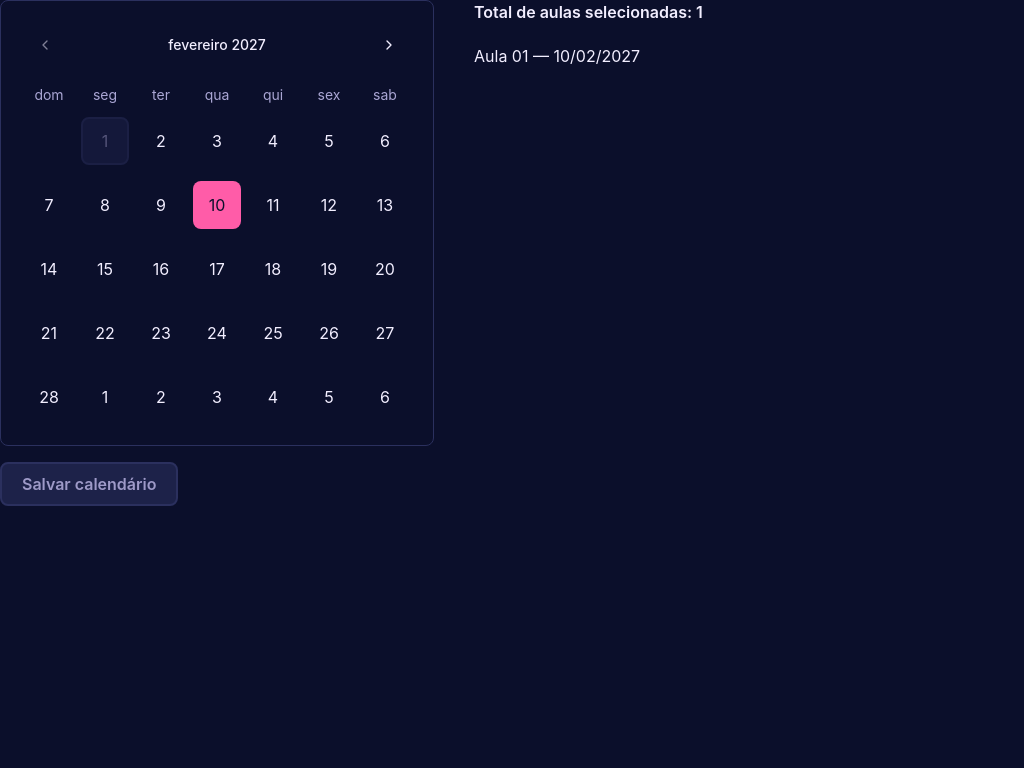
004/US4 MeetingCalendar — calendário de encontros da turma › 004/US4-6 "Deixar sem data" e "Cancelar" mantém a aula marcada
The image size is (1024, 768).
Expected: the text "Total de aulas selecionadas: 1" is shown, [474,2,703,22]
Click the button "10". click: [217, 205]
box: [193,181,241,229]
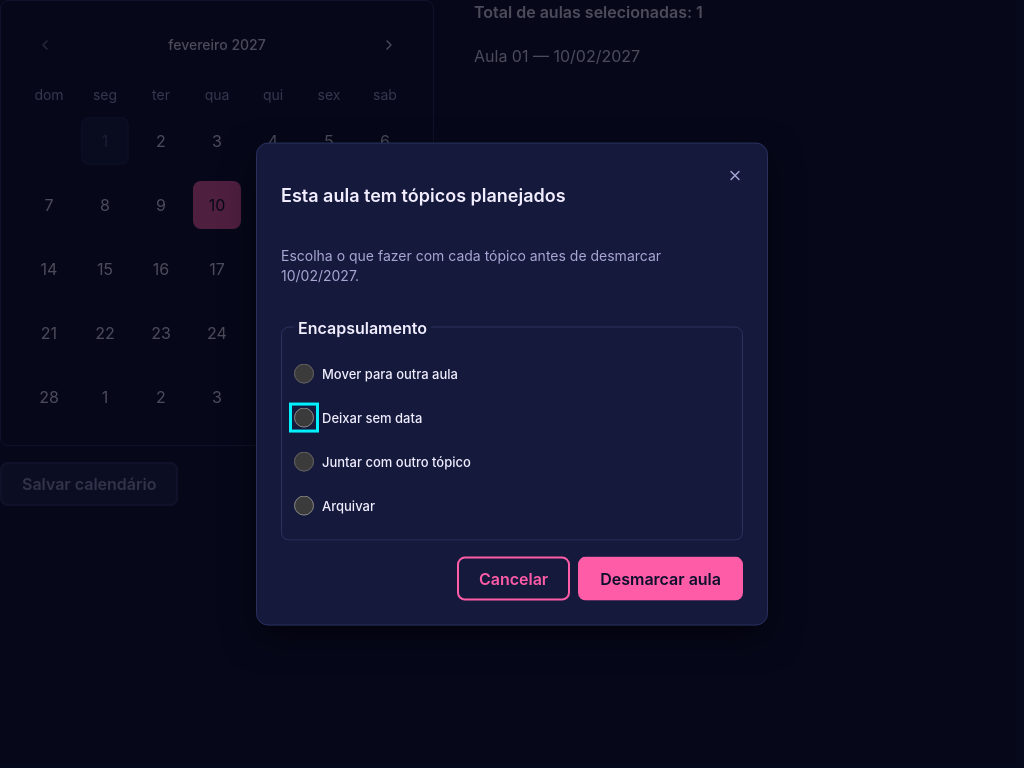
Click the button "Cancelar". click: [514, 578]
box: [457,556,570,600]
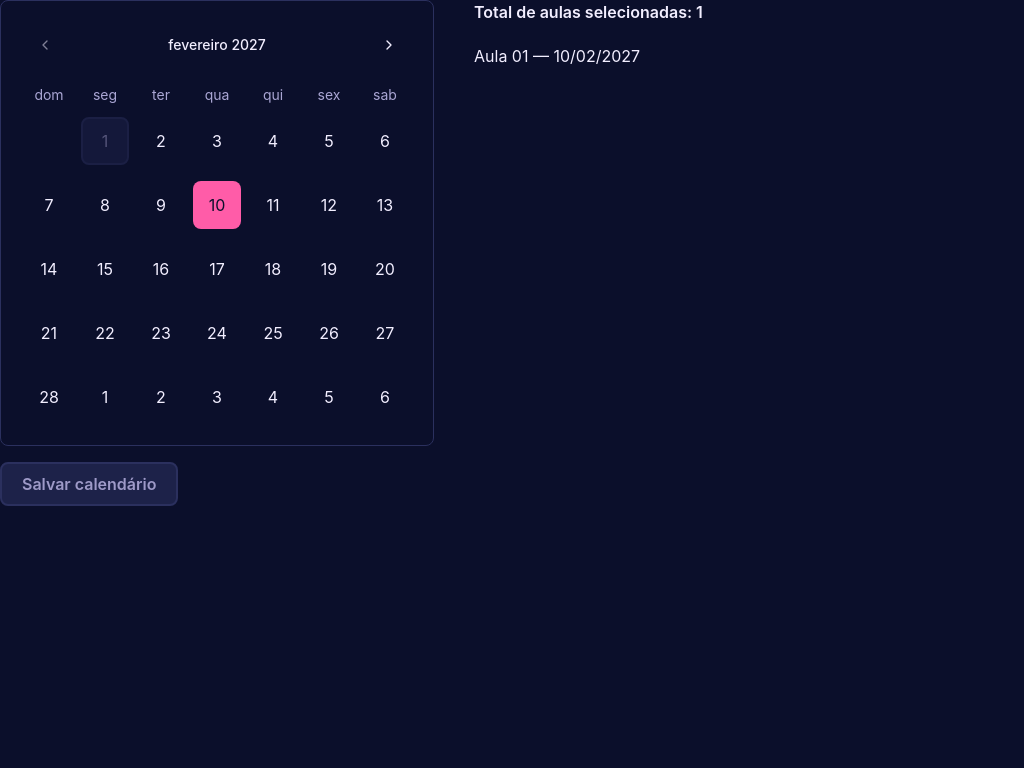
Expected: the text "Total de aulas selecionadas: 1" is shown, [474,2,703,22]
Expected: the dialog is gone
Click the button "10". click: [217, 205]
box: [193,181,241,229]
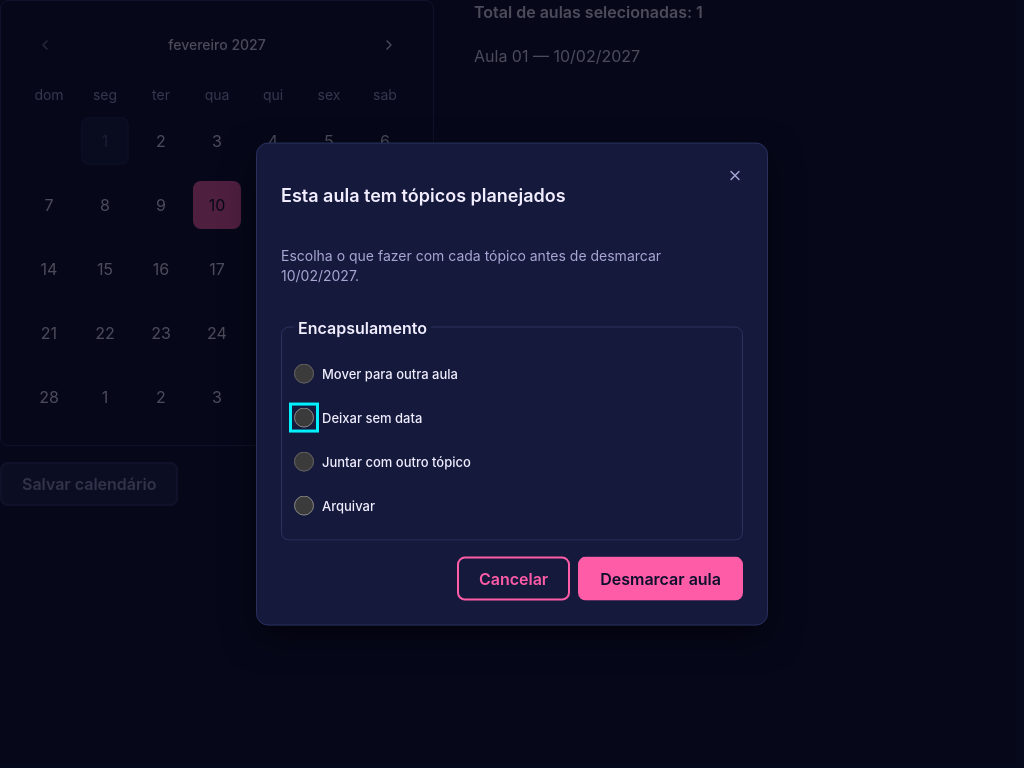
Click the radio button labelled "Deixar sem data". click: [304, 417]
box: [294,407,314,427]
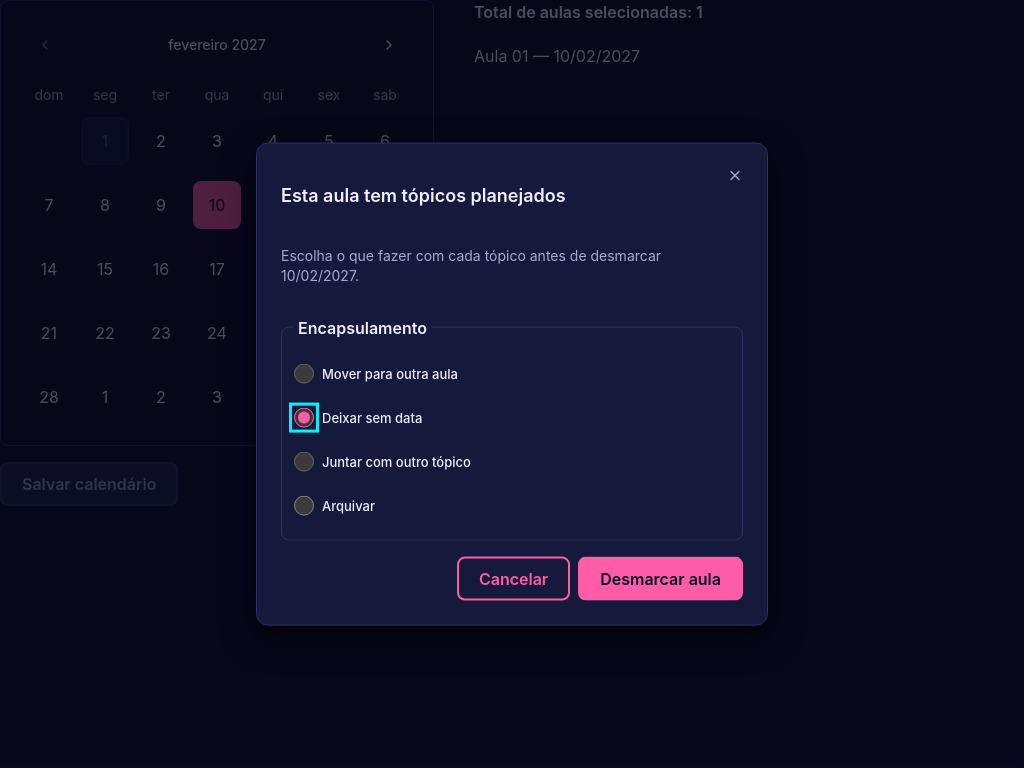
Click the button "Desmarcar aula". click: [661, 578]
box: [578,556,743,600]
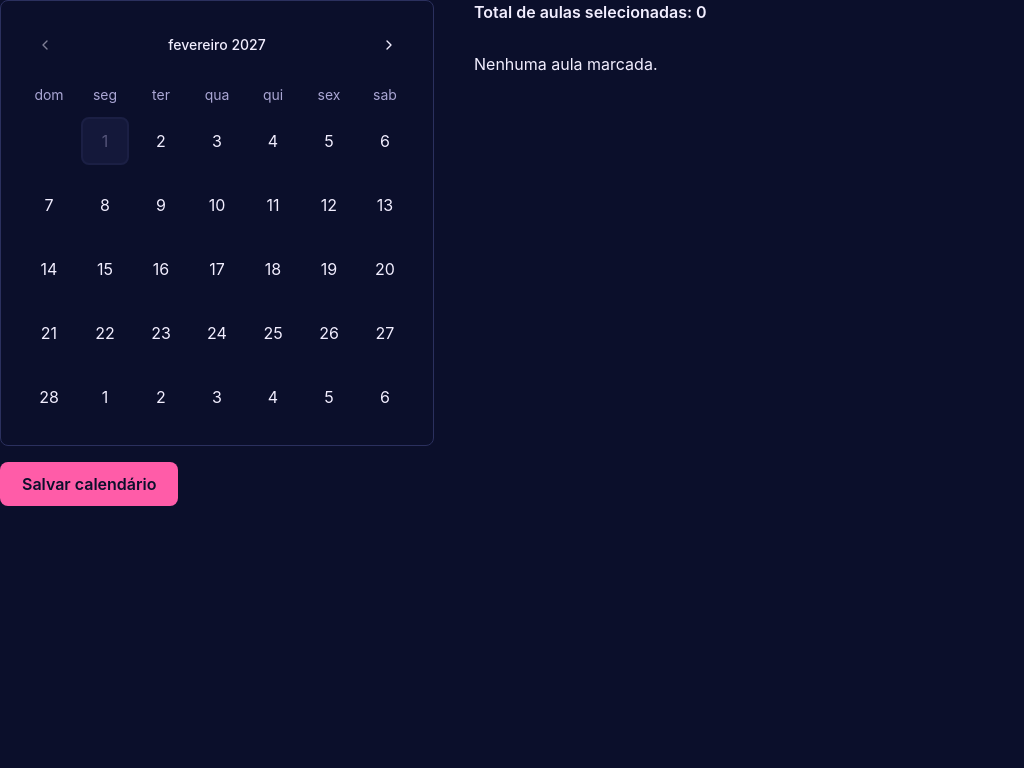
Click the button "Salvar calendário". click: [89, 484]
box: [0,462,178,506]
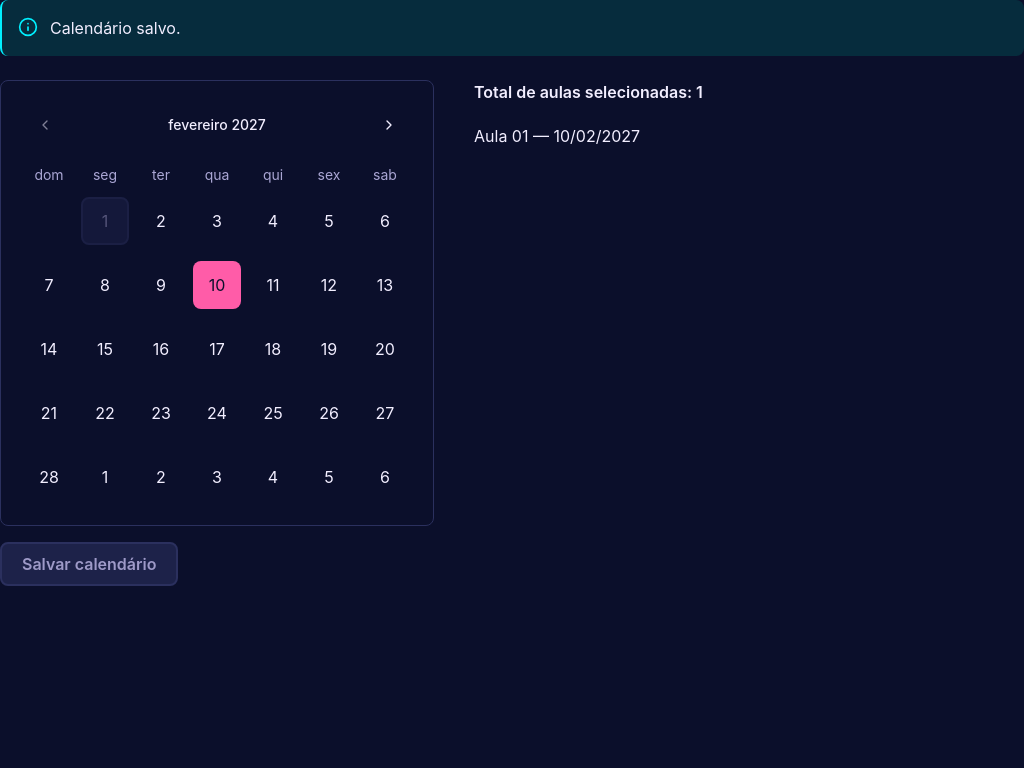
Expected: the text "Calendário salvo." is shown, [50,18,180,38]
